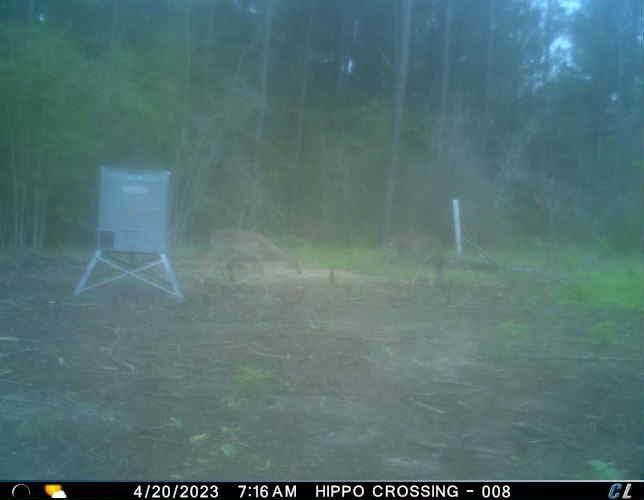Deer: (204, 227, 307, 301), (383, 224, 450, 287)
